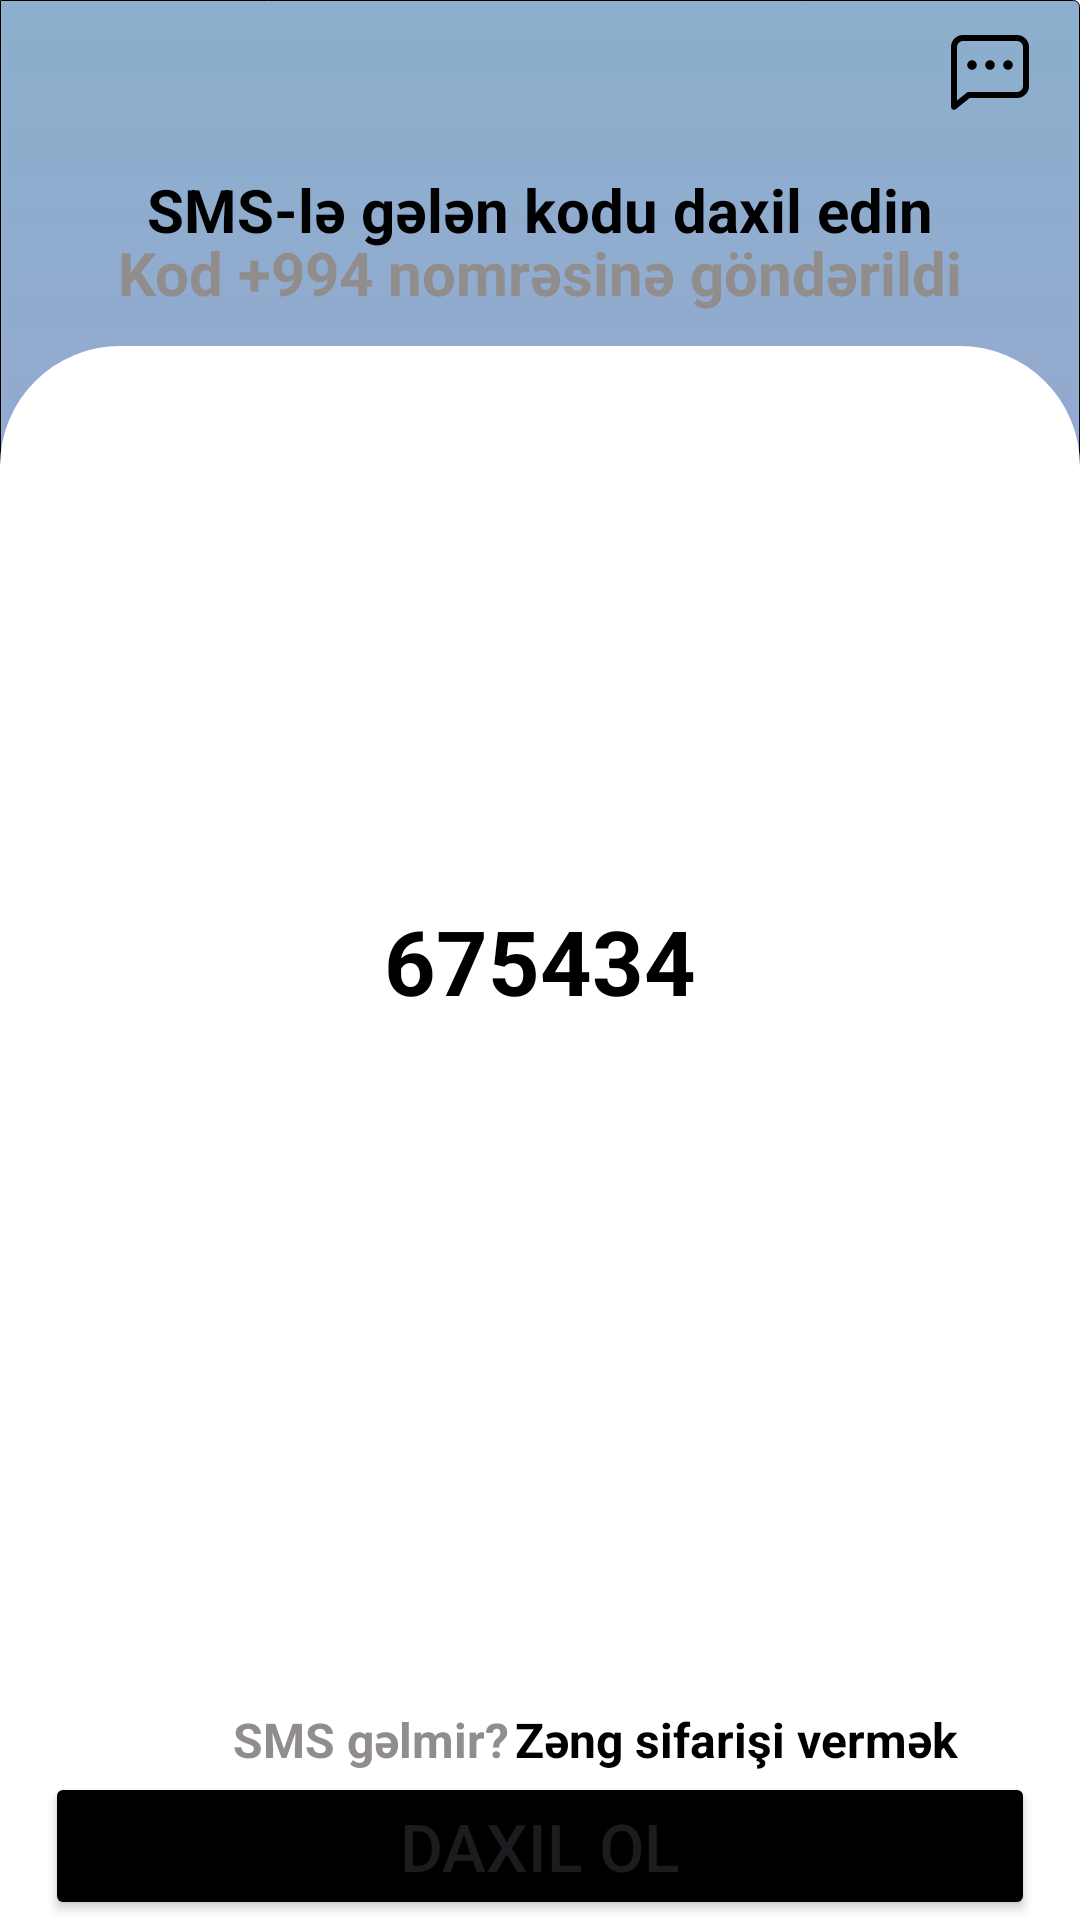

Where to tap for icons on this 1080 × 1920 app screen, as (x,y):
chat: (990,72)
